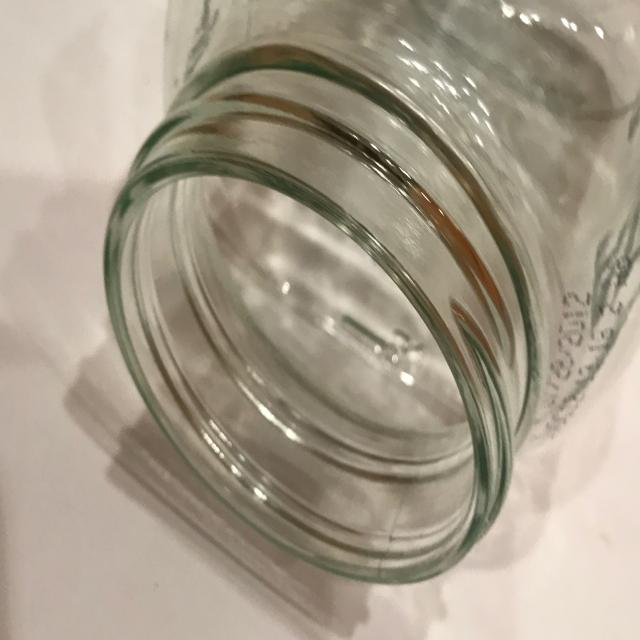glass: (101, 0, 640, 586)
